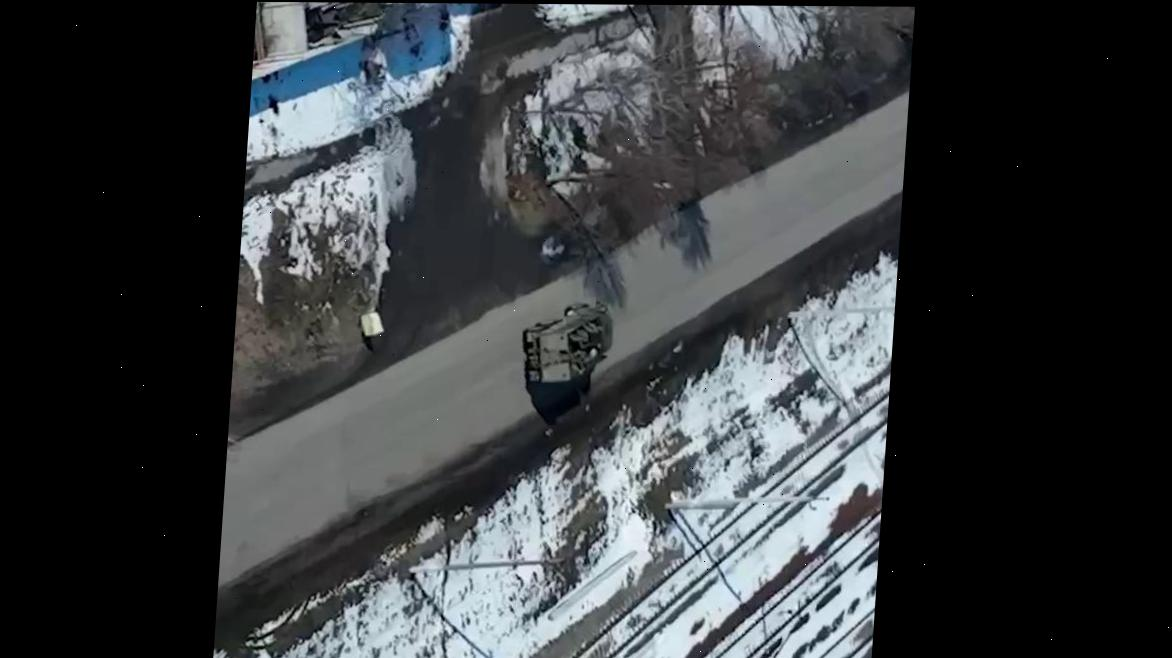truck: (519, 303, 617, 384)
